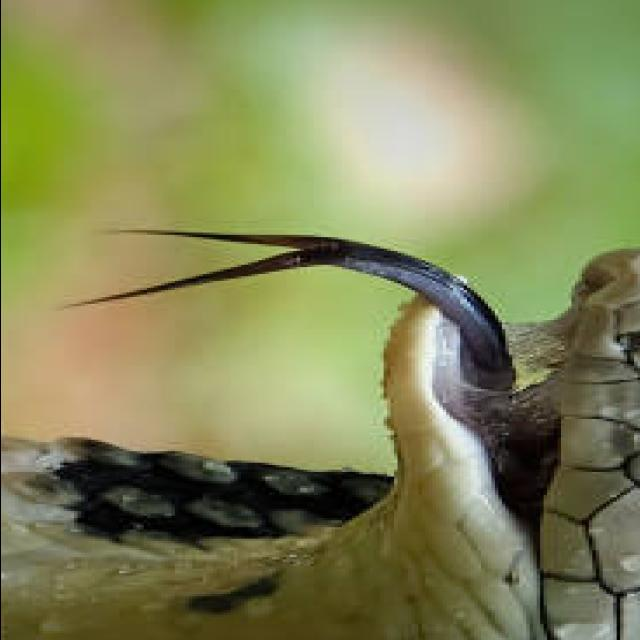snake: (0, 225, 640, 640)
